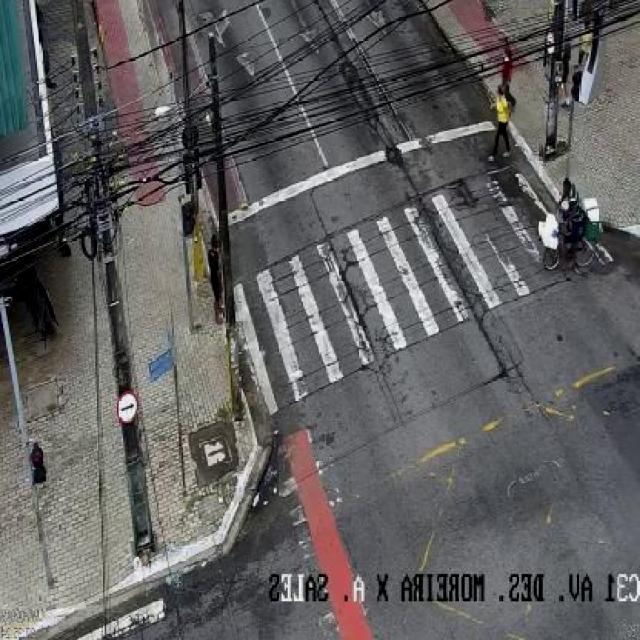Cycle: (538, 215, 597, 272)
